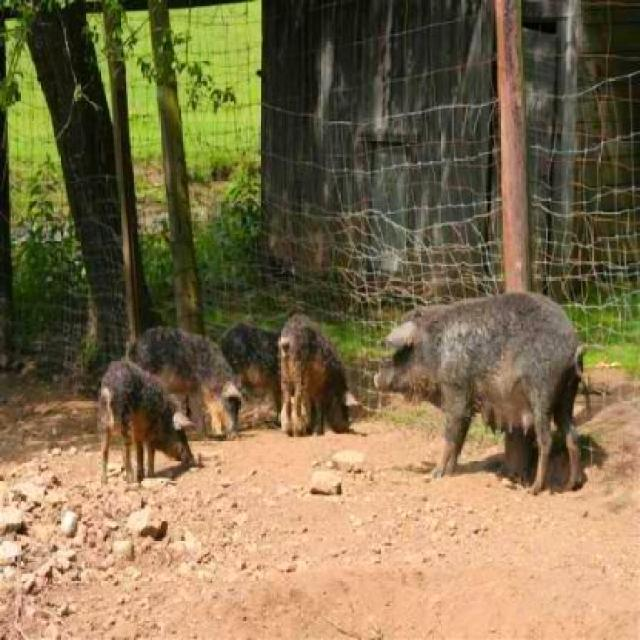Boar: (378, 271, 590, 495), (268, 311, 374, 452), (131, 326, 255, 437), (83, 366, 208, 476)
